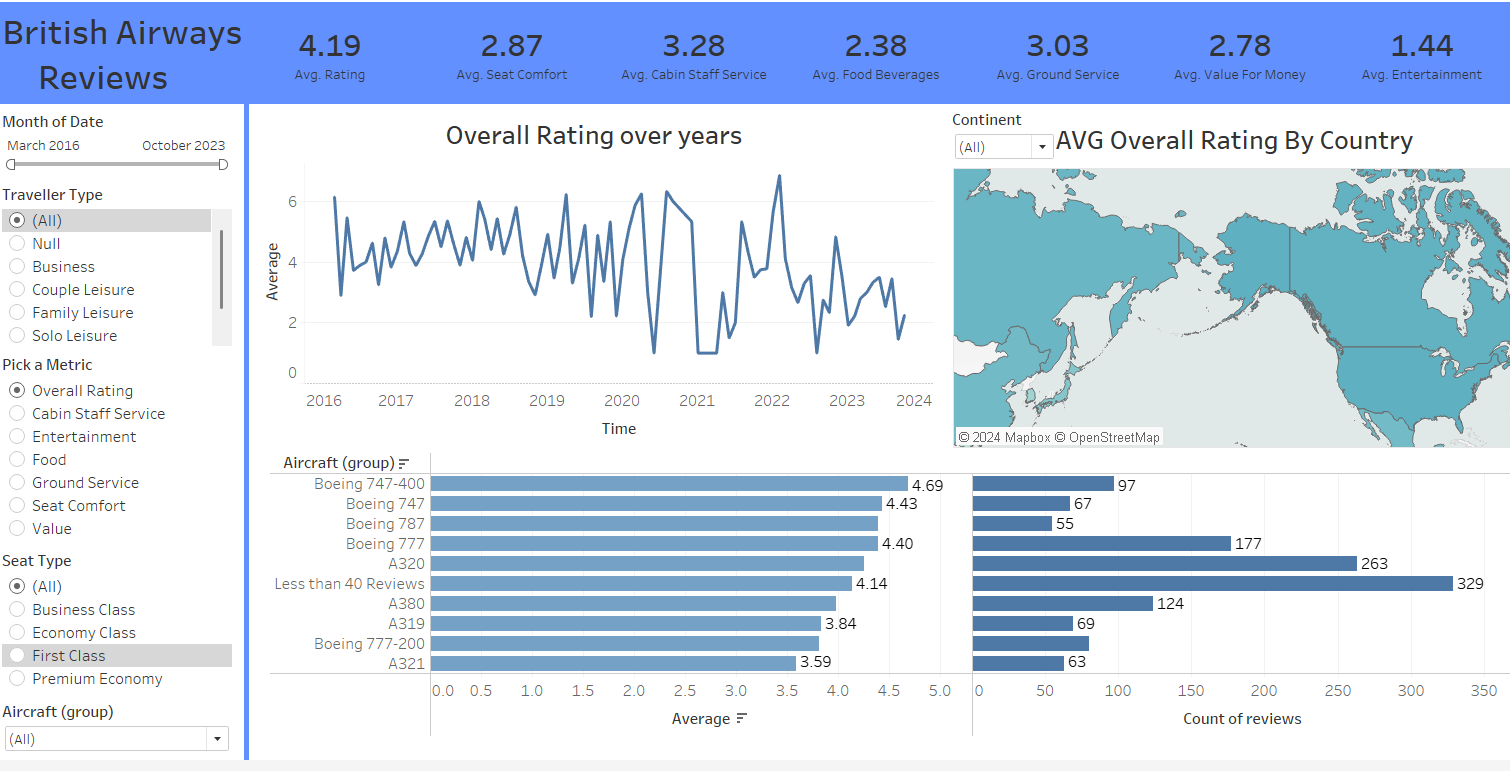

This screenshot's page, from the dashboard's own definition file:
{"tool":"tableau","page":{"name":"Dashboard 1","canvas":[1000,1000],"units":"permille","ordinal":0},"visuals":[{"type":"title","box":[1.3,2.6,162.5,134.2]},{"type":"blank","box":[162.5,130.3,3.3,869.7]},{"type":"filter","title":"Sheet 1","param":"[federated.015auj00vkkuqx0zrcuzo1592bm3].[tmn:date:qk]","box":[0.7,140.8,156.6,96.1]},{"type":"filter","title":"Sheet 1","param":"[federated.015auj00vkkuqx0zrcuzo1592bm3].[none:Continent:nk]","box":[628.3,143.4,69.1,69.7]},{"type":"worksheet","title":"Sheet 4","mark":"Automatic","rows":["Calculation_1246089736659083265"],"cols":["date"],"box":[169.1,148.7,447.4,438.2]},{"type":"worksheet","title":"Sheet 1","mark":"Automatic","box":[629,155.3,370.4,434.2]},{"type":"filter","title":"Sheet 1","param":"[federated.015auj00vkkuqx0zrcuzo1592bm3].[none:traveller_type:nk]","box":[0.7,236.8,156.6,223.7]},{"type":"parameter","param":"[Parameters].[Parameter 1]","box":[0.7,460.5,156.6,257.9]},{"type":"worksheet","title":"Sheet 5","mark":"Automatic","cols":["Calculation_1246089736659083265","ba_reviews.csv_9ED686053F684BAEBFCDFD3AE4B27EA7"],"box":[179.6,596.1,818.4,376.3]},{"type":"filter","title":"Sheet 1","param":"[federated.015auj00vkkuqx0zrcuzo1592bm3].[none:seat_type:nk]","box":[0.7,718.4,156.6,198.7]},{"type":"filter","title":"Sheet 1","param":"[federated.015auj00vkkuqx0zrcuzo1592bm3].[Aircraft (group)]","box":[0.7,917.1,156.6,80.3]}]}

Visuals, with their boxes on the dashboard's canvas, which has no fixed pixel size, in thousandths of its width and height (x1, y1, x2, y2). These are canvas units, not pixel positions in the 1510x771 screenshot, which may show the page scaled, cropped or inside an application window:
title: [x1=1, y1=3, x2=164, y2=137]
blank: [x1=162, y1=130, x2=166, y2=1000]
"Sheet 1" filter: [x1=1, y1=141, x2=157, y2=237]
"Sheet 1" filter: [x1=628, y1=143, x2=697, y2=213]
"Sheet 4" worksheet: [x1=169, y1=149, x2=616, y2=587]
"Sheet 1" worksheet: [x1=629, y1=155, x2=999, y2=590]
"Sheet 1" filter: [x1=1, y1=237, x2=157, y2=460]
parameter: [x1=1, y1=460, x2=157, y2=718]
"Sheet 5" worksheet: [x1=180, y1=596, x2=998, y2=972]
"Sheet 1" filter: [x1=1, y1=718, x2=157, y2=917]
"Sheet 1" filter: [x1=1, y1=917, x2=157, y2=997]
